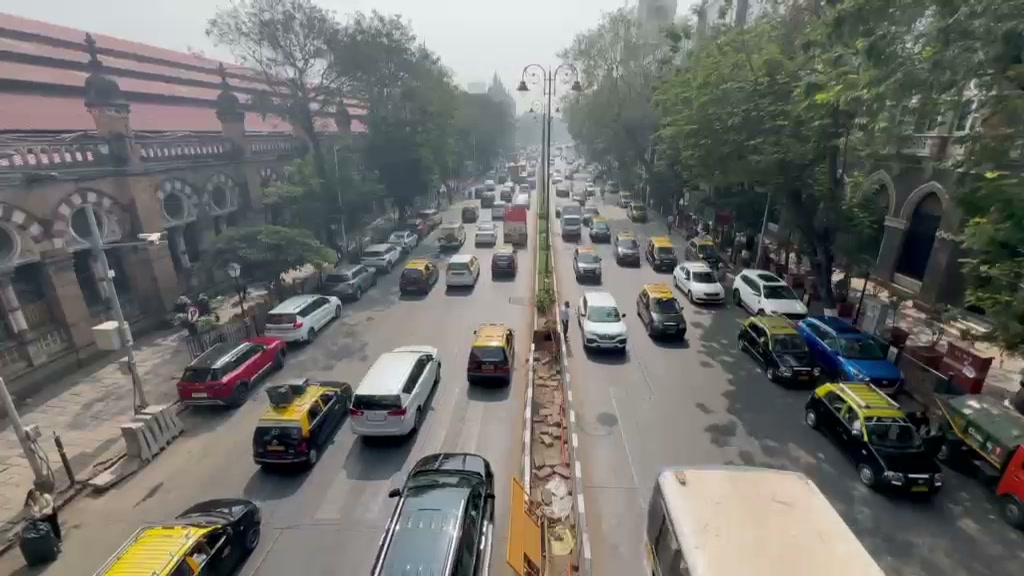bus: (502, 203, 529, 249)
car: (803, 380, 946, 498), (369, 452, 497, 574), (93, 497, 263, 575), (251, 378, 354, 471), (348, 345, 442, 442), (796, 314, 905, 390), (175, 335, 288, 408), (735, 312, 817, 388), (262, 292, 342, 345), (732, 268, 810, 318), (577, 288, 629, 355), (635, 282, 689, 343), (466, 323, 515, 387), (994, 442, 1024, 531), (672, 260, 726, 307), (316, 263, 377, 302), (398, 257, 440, 298), (444, 254, 481, 295), (645, 238, 679, 274), (612, 230, 641, 267), (574, 249, 603, 284), (491, 249, 517, 281), (589, 219, 612, 245)
truck: (643, 463, 887, 574), (803, 380, 945, 499), (933, 393, 1024, 481)
